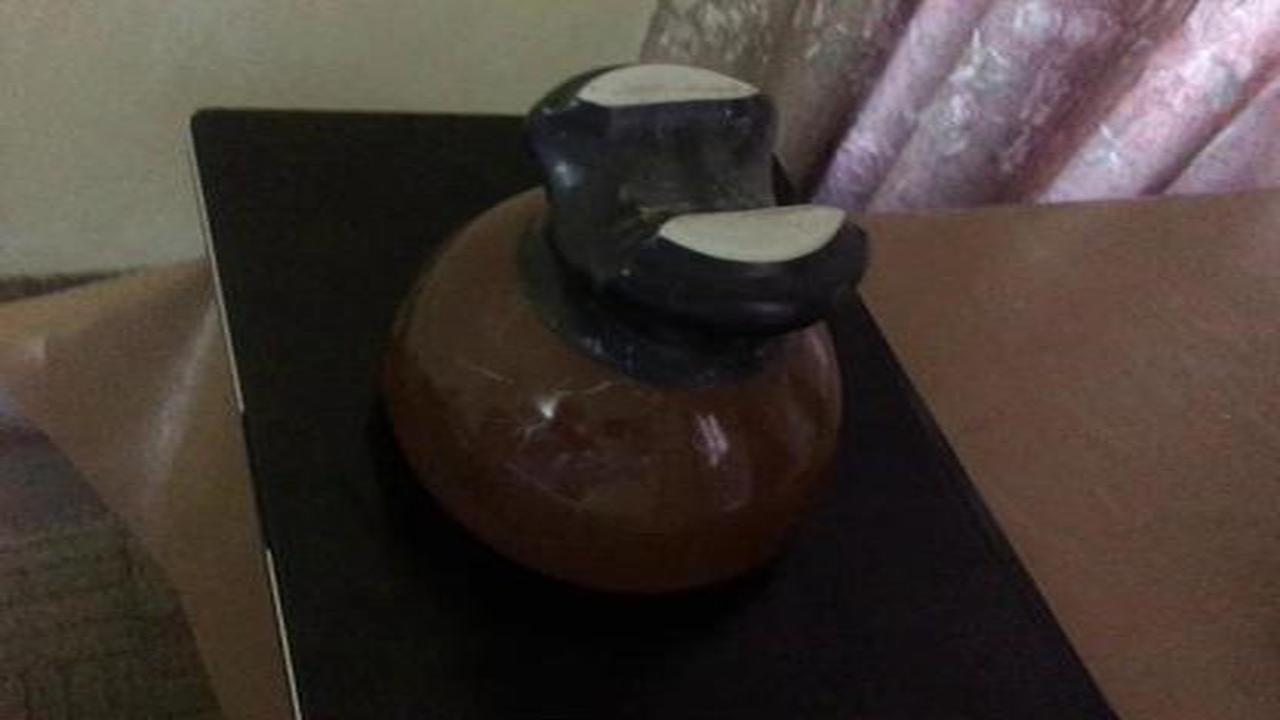insulator_pin: (361, 47, 893, 629)
